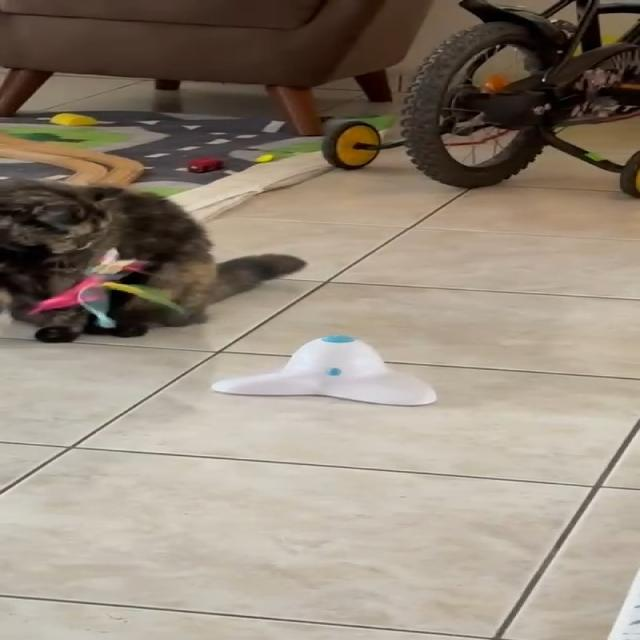authorized: (0, 176, 307, 343)
